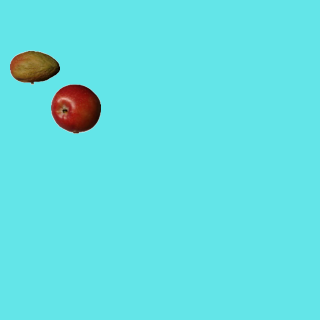Apple Braeburn: (50, 83, 100, 133)
Papaya: (9, 42, 59, 92)
